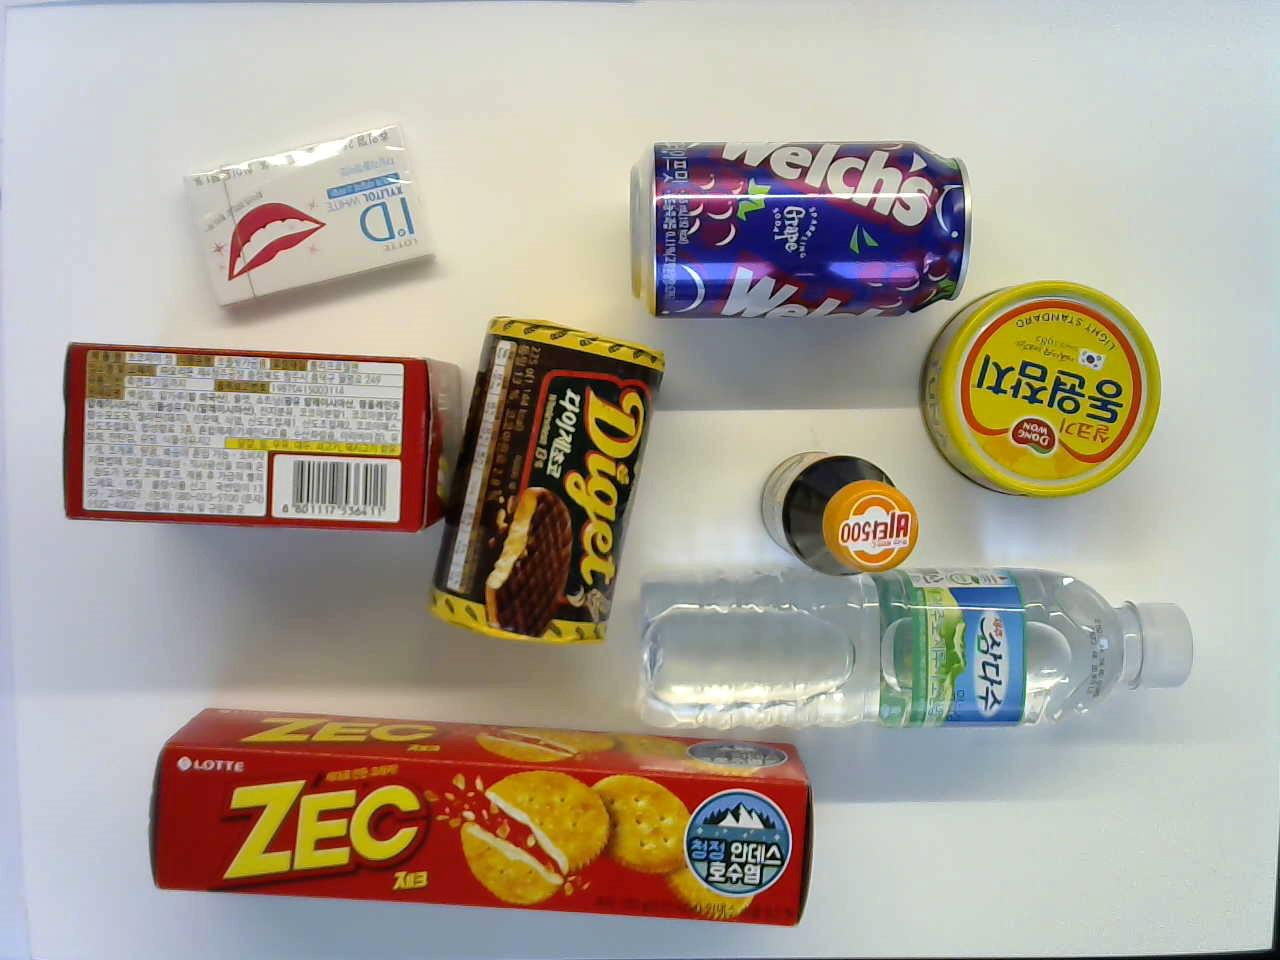ID_gum: (177, 118, 443, 318)
chocopie: (50, 336, 481, 538)
diget_choco: (422, 311, 672, 649)
samdasu: (628, 564, 1198, 738)
tuna: (915, 276, 1168, 503)
vita500: (751, 446, 923, 578)
welchs: (618, 134, 978, 326)
zec: (138, 704, 819, 930)
